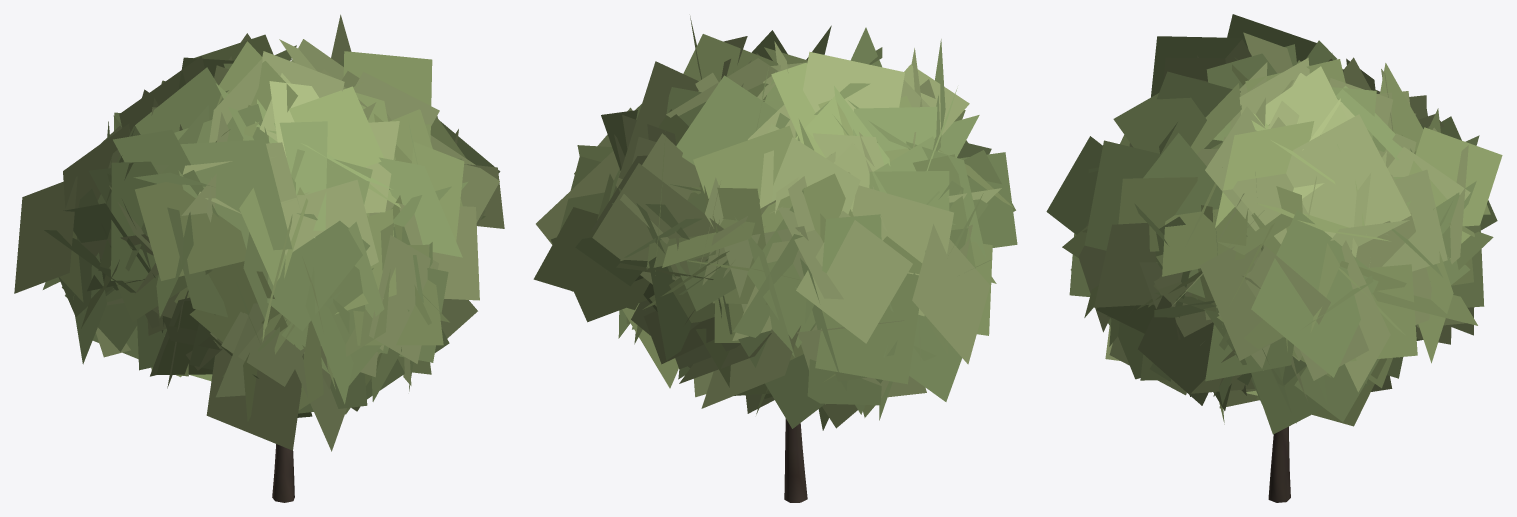
Rendered from robinia_0.glb.
3 renders of one model, left to right at view 1: azimuth 30°, elevation 25°; view 2: azimuth 150°, elevation 25°; view 3: azimuth 270°, elevation 25°, orthographic. The views are drawn at different scales.
Parts seen in each view (by area): view 1: robinia_0; view 2: robinia_0; view 3: robinia_0.
Part boxes in pixels (x1=…): robinia_0: x1=14, y1=14, x2=504, y2=502; robinia_0: x1=533, y1=16, x2=1017, y2=502; robinia_0: x1=1046, y1=14, x2=1502, y2=502.
Bounding box in the file's own units: 1 × 1 × 0.9355.
